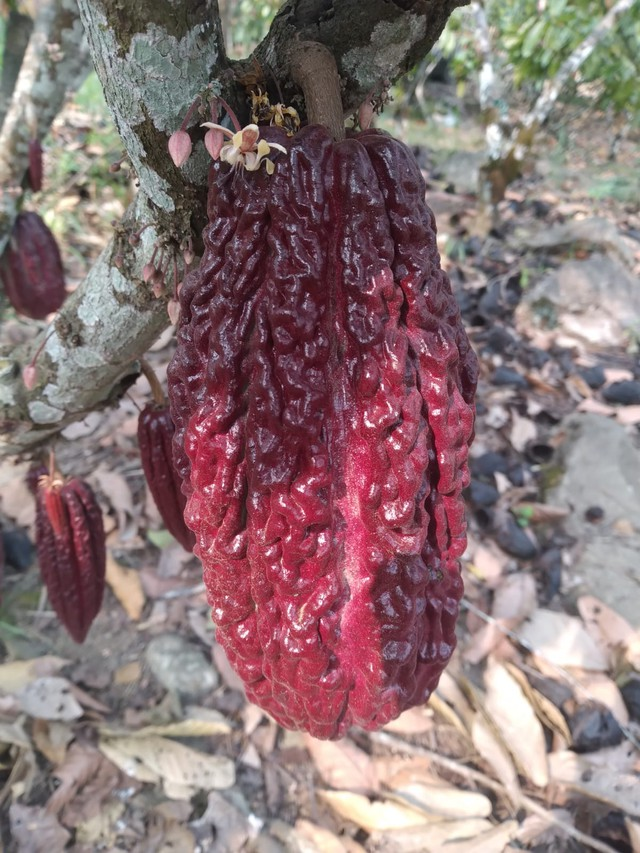Health: (158, 102, 503, 746)
